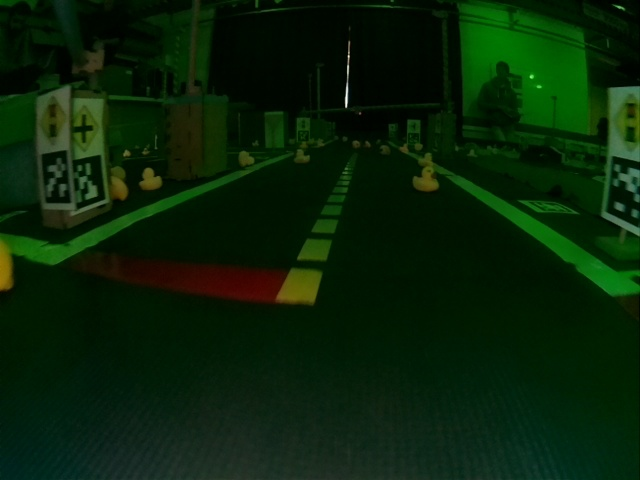Duckie: (414, 167, 439, 191), (140, 168, 163, 190), (111, 178, 129, 201), (238, 151, 255, 166), (294, 149, 310, 162), (419, 154, 433, 165), (380, 145, 389, 154), (352, 141, 361, 150)
Intersection sign: (72, 107, 100, 153), (409, 121, 419, 132)
QR code: (605, 158, 639, 229), (71, 155, 106, 206), (40, 150, 71, 205), (520, 200, 577, 212), (297, 131, 307, 141)
Signal sign: (613, 91, 639, 154), (36, 95, 68, 145), (298, 119, 309, 130)
